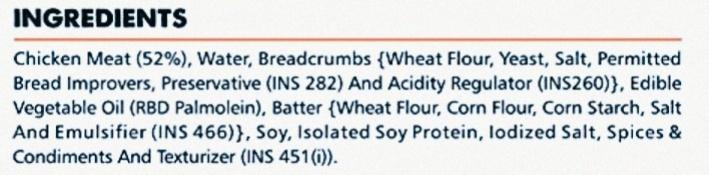ingredients: (7, 4, 691, 175)
